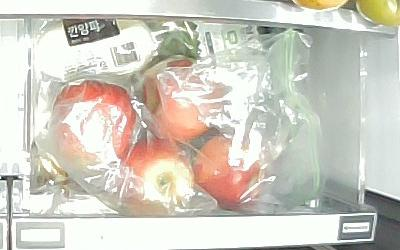apple_vinyl: (134, 56, 225, 140), (49, 80, 135, 166), (193, 130, 278, 213), (119, 137, 195, 217)
